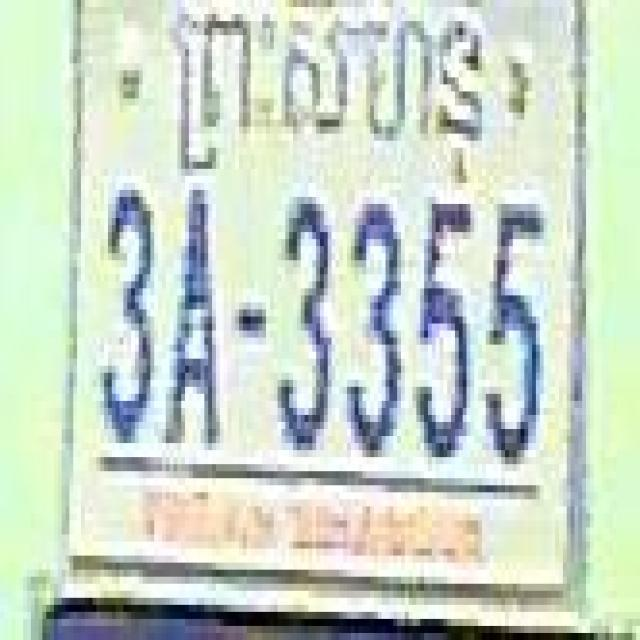Preah_Sihanouk: (170, 0, 485, 186)
